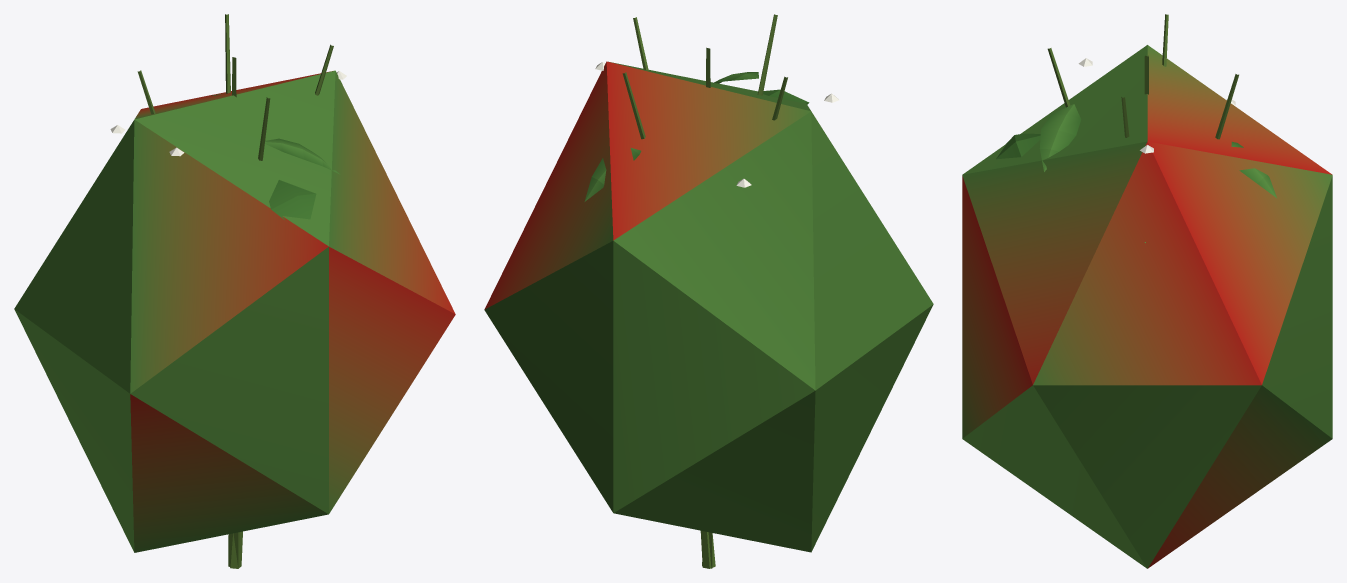
Rendered from pepper.glb.
The picture shows the model from 3 angles, left to right: view 1: azimuth 30°, elevation 25°; view 2: azimuth 150°, elevation 25°; view 3: azimuth 270°, elevation 25°; orthographic projection. The views are drawn at different scales.
Parts seen in each view (by area): view 1: leaves (×3), stem; view 2: leaves (×2), stem; view 3: leaves (×3), stem.
Part boxes in pixels (x1=…): leaves (×3): x1=14, y1=70, x2=455, y2=552; stem: x1=137, y1=14, x2=333, y2=568; leaves (×2): x1=484, y1=61, x2=933, y2=552; stem: x1=622, y1=14, x2=787, y2=568; leaves (×3): x1=962, y1=45, x2=1332, y2=568; stem: x1=1047, y1=14, x2=1238, y2=139.
Size of the model in its own units: 0.6672 by 1 by 0.6672.
